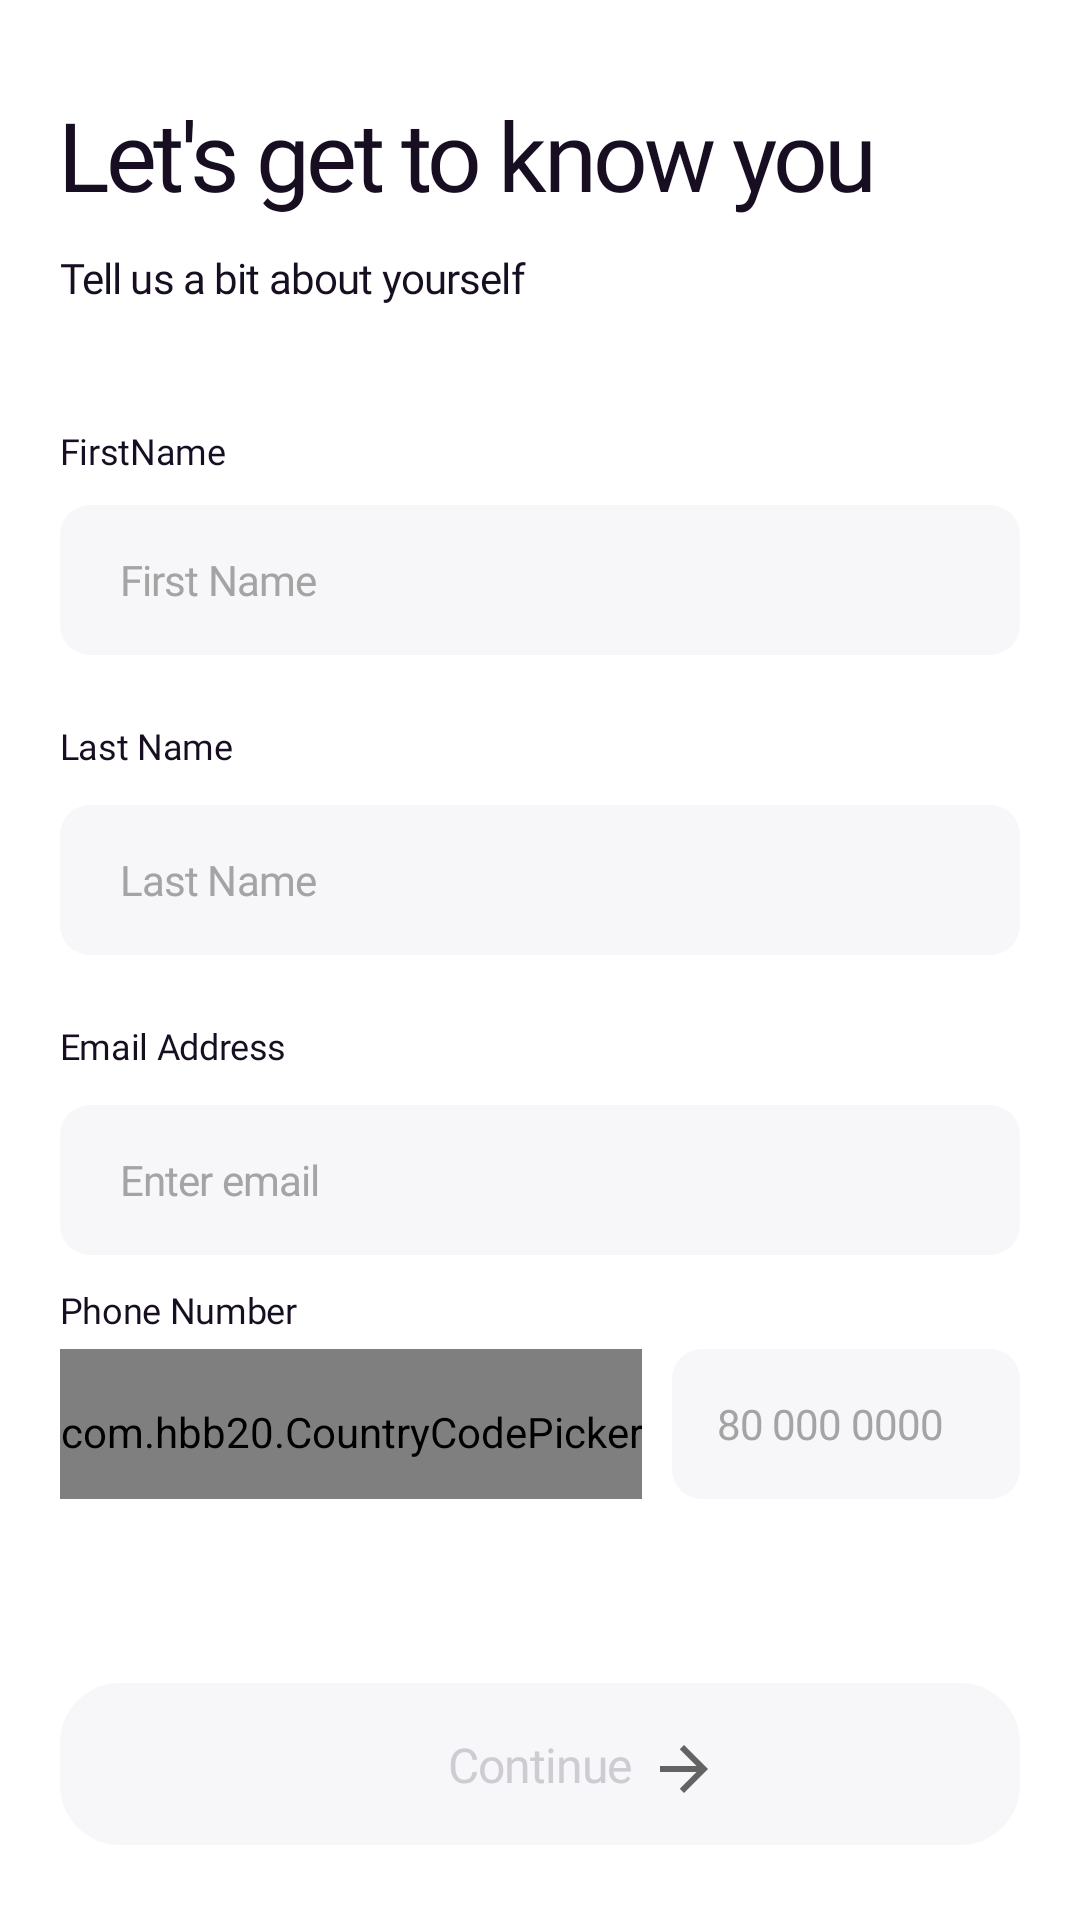

Locate icon controls on the screen. Image size 1080×1920, boxes as [x1,y1,x2,y2].
arrow forward: [660,1745,708,1793]
